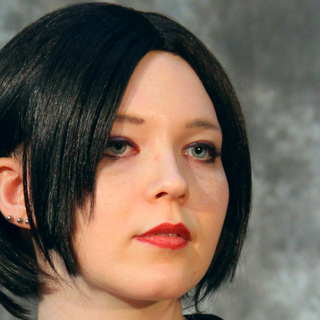eye: (100, 131, 140, 160), (179, 138, 221, 165)
